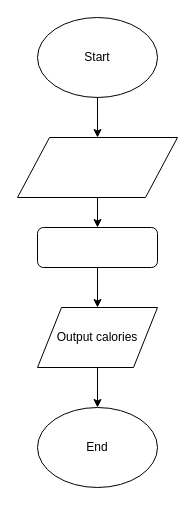
The diagram is 195 pixels wide and 505 high, and some of its shapes have lost their labels. Here are the shapes that lost their labels. From the top down, the centre of each, then its label:
the point at 97,167: Input carbs and fat in grams
the point at 97,247: Calculate calories
